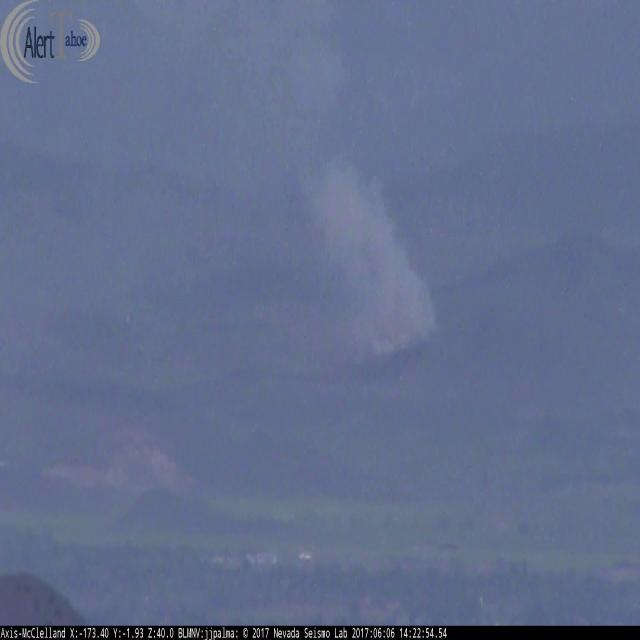smoke: (135, 9, 438, 354), (37, 420, 192, 498)
